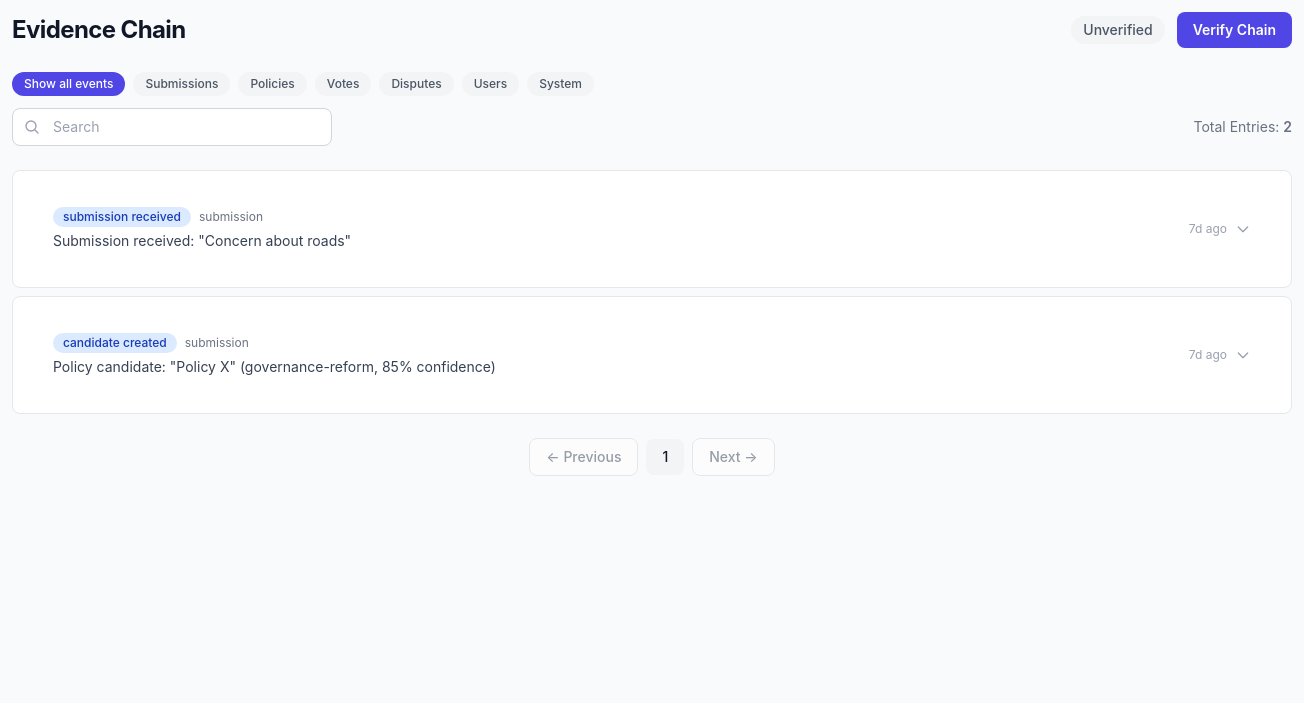
Scenario: EvidencePage › collapses entry details on second click
Check: the text "Submission received: \"Concern about roads\"" is shown, box [53,232,351,249]
What coordinates should you click on to do the following:
click the button that starts with "submission received"
I would click on:
 (122, 217)
Its box is [33,191,1271,267].
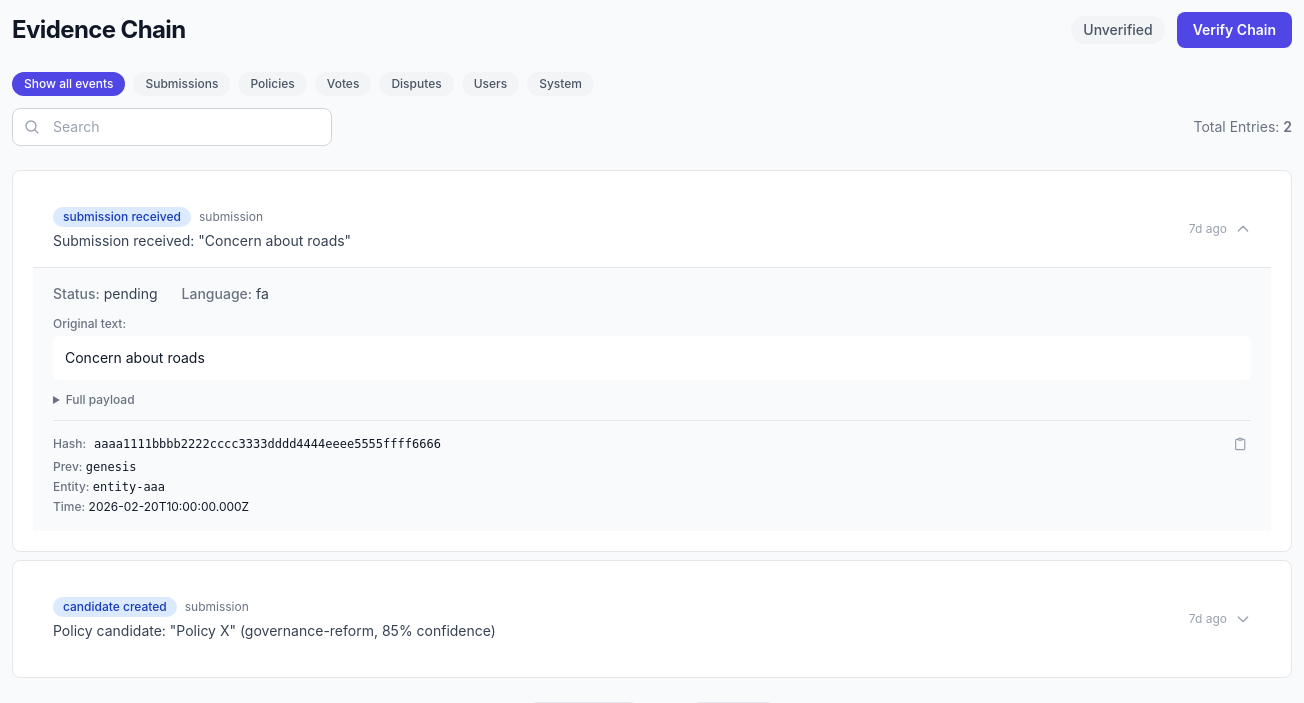
Check: the text "entity-aaa" is shown, box [93,480,165,494]
What coordinates should you click on to do the following:
click the button that starts with "submission received"
I would click on:
 (122, 217)
Its box is [33,191,1271,267].
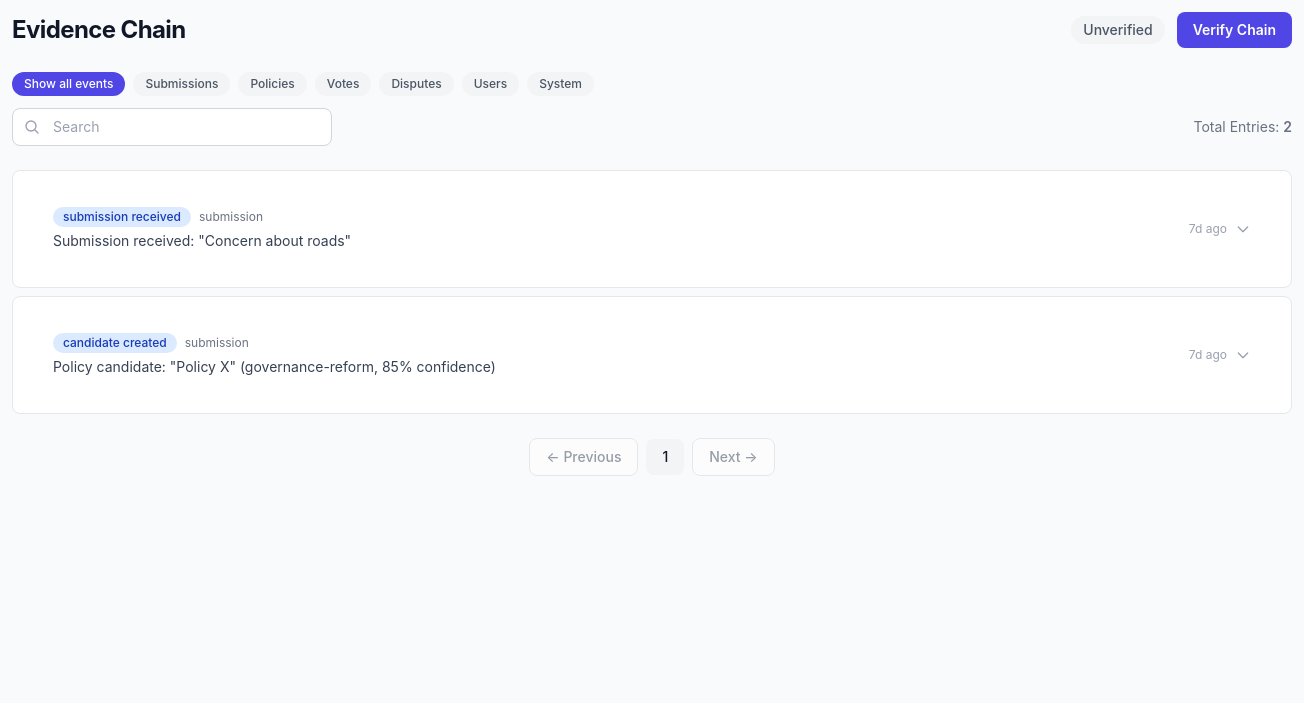
Check: the text "entity-aaa" is not shown
